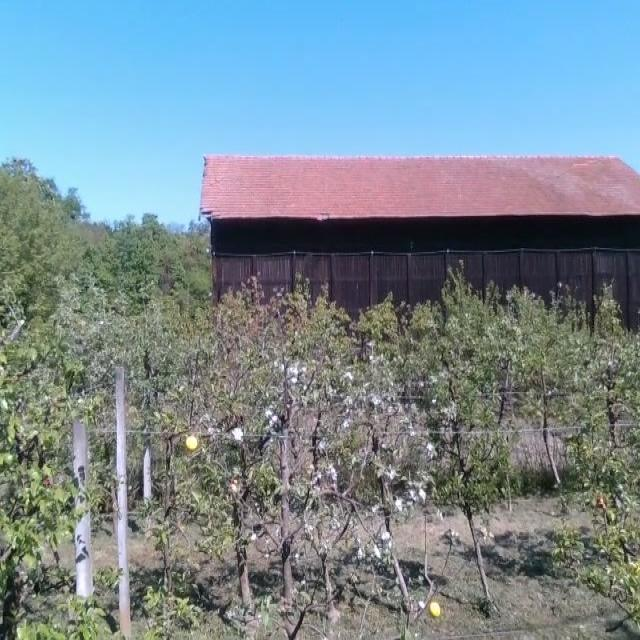red: (596, 496, 606, 508)
yellow: (428, 600, 442, 618), (186, 436, 198, 450)
